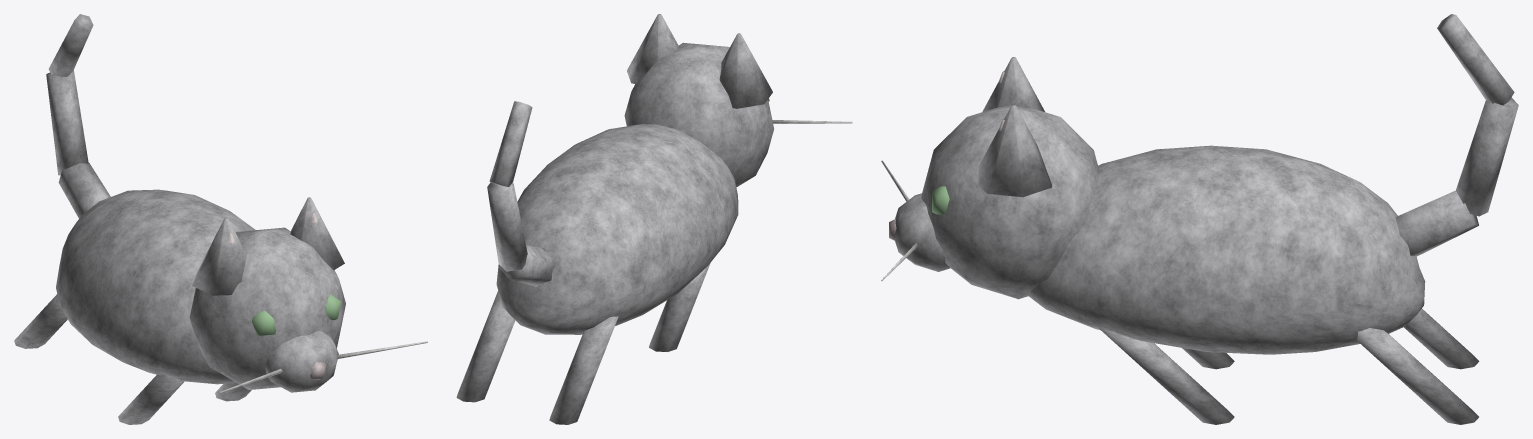
File: mob_kucing_walk1.obj
The picture shows the model from 3 angles, left to right: view 1: azimuth 30°, elevation 25°; view 2: azimuth 150°, elevation 25°; view 3: azimuth 270°, elevation 25°; orthographic projection. The views are drawn at different scales.
Parts seen in each view (by area): view 1: mob_kucing_walk1; view 2: mob_kucing_walk1; view 3: mob_kucing_walk1.
Part boxes in pixels (x1,y1,x2,y2): mob_kucing_walk1: [14, 14, 427, 424]; mob_kucing_walk1: [456, 14, 852, 424]; mob_kucing_walk1: [881, 14, 1518, 424].
Size of the model in its own units: 0.3741 by 0.546 by 0.8432.
Materials: 1 (1 with a texture image).
